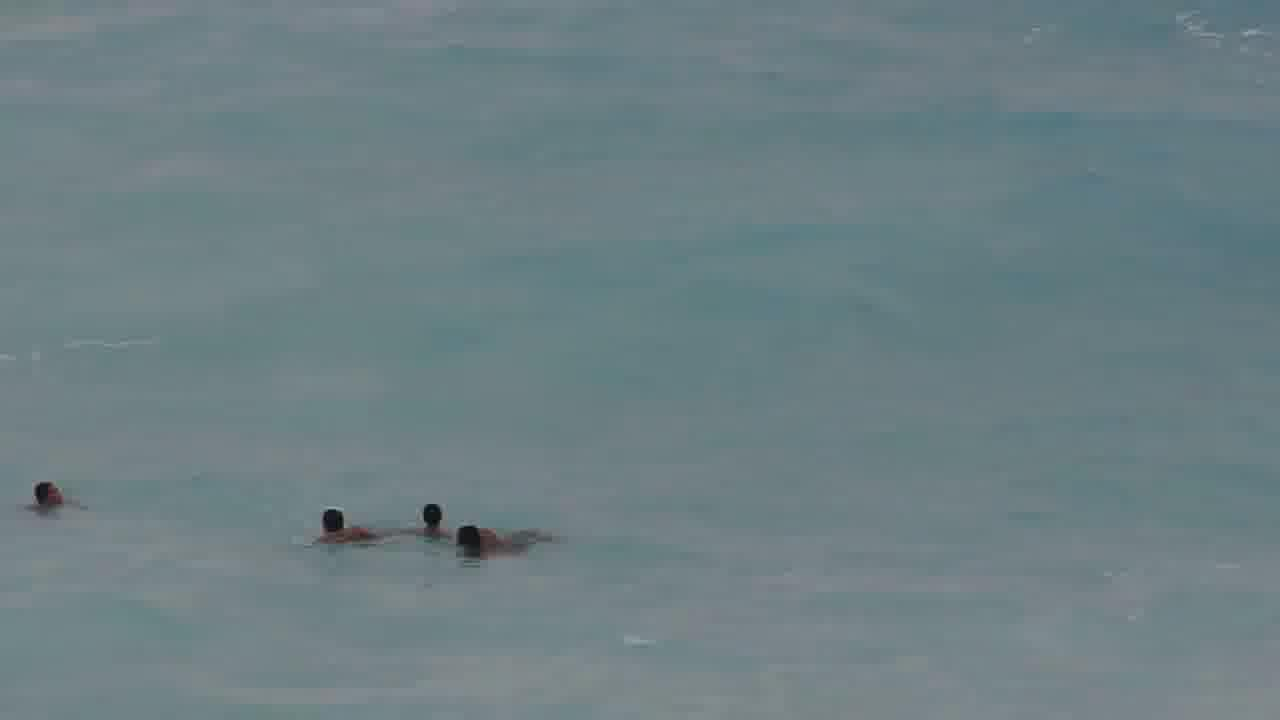human: (300, 501, 393, 548), (452, 514, 539, 558), (390, 496, 455, 541), (18, 475, 90, 515)
